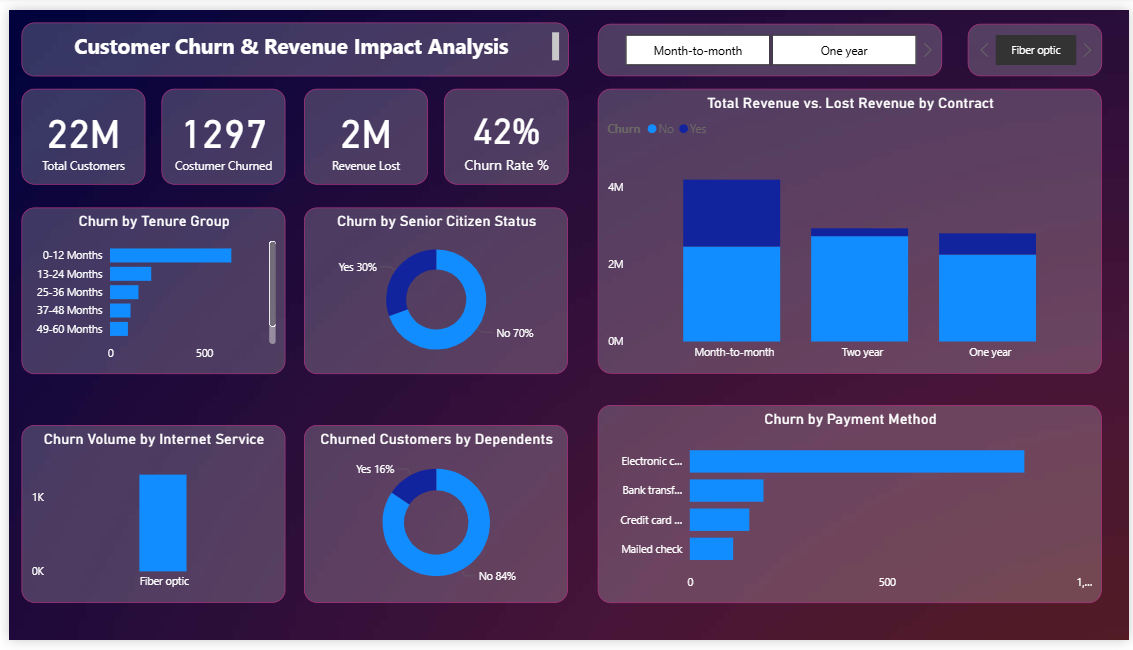

Layout of this report page (visuals, bound fields, positions):
{"tool":"powerbi","page":{"name":"Page 1","canvas":[1280,720],"ordinal":0},"visuals":[{"type":"columnChart","title":"Total Revenue vs. Lost Revenue by Contract","fields":{"Category":["churn_analysis telco_churn.Contract"],"Y":["Sum(churn_analysis telco_churn.TotalCharges)"],"Series":["churn_analysis telco_churn.Churn"]},"box":[672.4,90.6,576.3,325.2],"z":0},{"type":"clusteredBarChart","title":"Churn by Payment Method","fields":{"Category":["churn_analysis telco_churn.PaymentMethod"],"Y":["CountNonNull(churn_analysis telco_churn.customerID)"]},"box":[672.4,451.5,576.3,226.4],"z":1000},{"type":"textbox","box":[13.7,13.7,625.7,61.7],"z":2000},{"type":"card","fields":{"Values":["Sum(churn_analysis telco_churn.Total Customers)"]},"box":[13.7,90.6,141.3,109.8],"z":3000},{"type":"card","fields":{"Values":["churn_analysis telco_churn.Churn Rate %"]},"box":[496.7,90.6,142.7,109.8],"z":4000},{"type":"card","fields":{"Values":["CountNonNull(churn_analysis telco_churn.customerID)"]},"box":[174.3,90.6,141.3,109.8],"z":5000},{"type":"card","fields":{"Values":["Sum(churn_analysis telco_churn.TotalCharges)"]},"box":[337.6,90.6,141.3,109.8],"z":6000},{"type":"donutChart","title":"Churned Customers by Dependents","fields":{"Category":["churn_analysis telco_churn.Dependents"],"Y":["CountNonNull(churn_analysis telco_churn.customerID)"]},"box":[337.6,474.8,301.9,203.1],"z":7000},{"type":"columnChart","title":"Churn Volume by Internet Service","fields":{"Category":["churn_analysis telco_churn.InternetService"],"Y":["CountNonNull(churn_analysis telco_churn.customerID)"]},"box":[13.7,474.8,301.9,203.1],"z":8000},{"type":"donutChart","title":"Churn by Senior Citizen Status","fields":{"Category":["churn_analysis telco_churn.SeniorCitizen_Text"],"Y":["CountNonNull(churn_analysis telco_churn.customerID)"]},"box":[337.6,225,301.9,190.7],"z":9000},{"type":"barChart","title":"Churn by Tenure Group","fields":{"Y":["CountNonNull(churn_analysis telco_churn.customerID)"],"Category":["churn_analysis telco_churn.tenure_group"]},"box":[13.7,225,301.9,190.7],"z":10000},{"type":"slicer","fields":{"Values":["churn_analysis telco_churn.Contract"]},"box":[672.4,15.1,393.8,60.4],"z":11000},{"type":"slicer","fields":{"Values":["churn_analysis telco_churn.InternetService"]},"box":[1095,15.1,153.7,60.4],"z":12000}]}

Visuals, with their boxes in screenshot pixels (x1, y1, x2, y2), scaled from the page's 1280x720 canvas onto the 1133x650 screenshot:
"Total Revenue vs. Lost Revenue by Contract" columnChart: bbox=(595, 82, 1105, 375)
"Churn by Payment Method" clusteredBarChart: bbox=(595, 408, 1105, 612)
textbox: bbox=(12, 12, 566, 68)
card - Sum(churn_analysis telco_churn.Total Customers): bbox=(12, 82, 137, 181)
card - churn_analysis telco_churn.Churn Rate %: bbox=(440, 82, 566, 181)
card - CountNonNull(churn_analysis telco_churn.customerID): bbox=(154, 82, 279, 181)
card - Sum(churn_analysis telco_churn.TotalCharges): bbox=(299, 82, 424, 181)
"Churned Customers by Dependents" donutChart: bbox=(299, 429, 566, 612)
"Churn Volume by Internet Service" columnChart: bbox=(12, 429, 279, 612)
"Churn by Senior Citizen Status" donutChart: bbox=(299, 203, 566, 375)
"Churn by Tenure Group" barChart: bbox=(12, 203, 279, 375)
slicer - churn_analysis telco_churn.Contract: bbox=(595, 14, 944, 68)
slicer - churn_analysis telco_churn.InternetService: bbox=(969, 14, 1105, 68)
